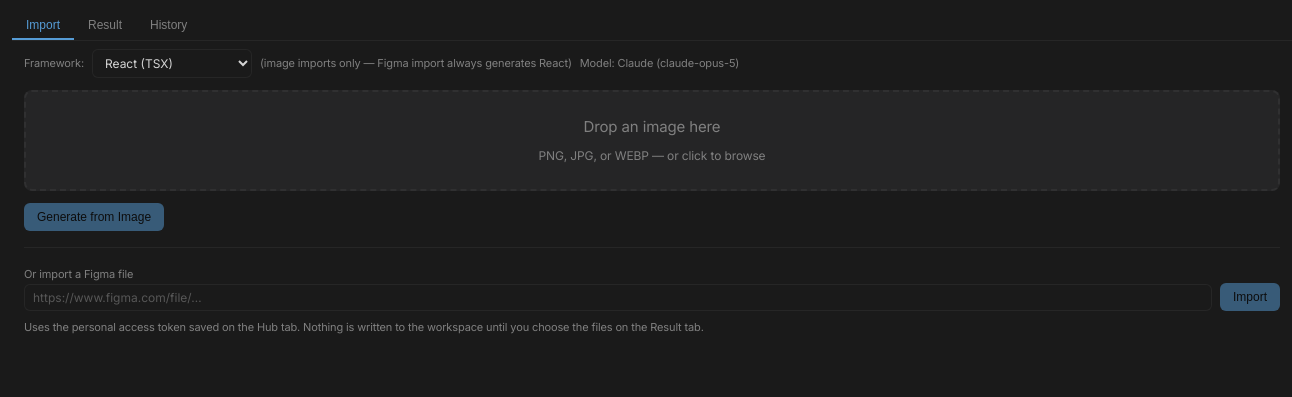
DesignImportPanel — generation › 4. a failing generator shows the error rather than an empty success
In the field named "Figma URL input": (618, 297) [24,284,1212,310], type "https://www.figma.com/file/xyz"
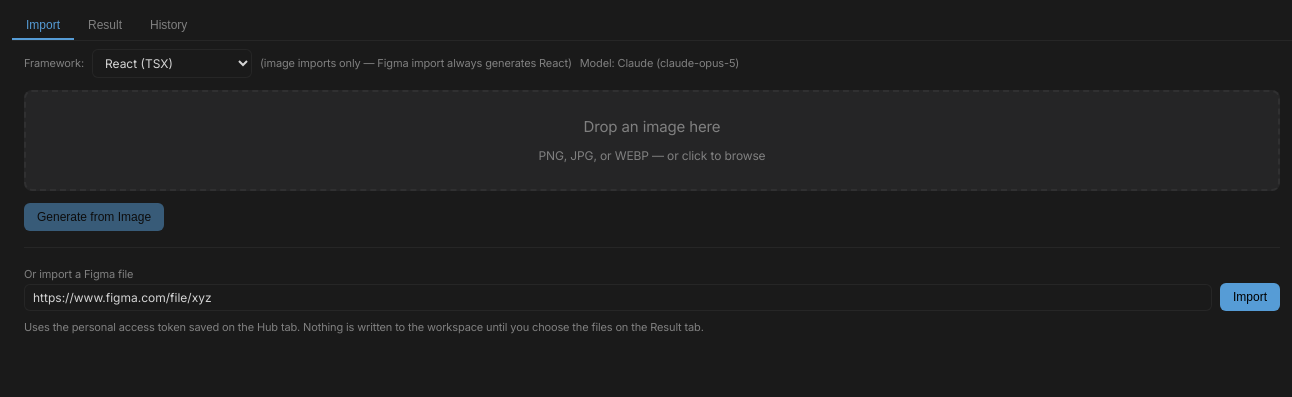
Click the button with aria-label "Import design": (1250, 297) [1220,283,1280,311]
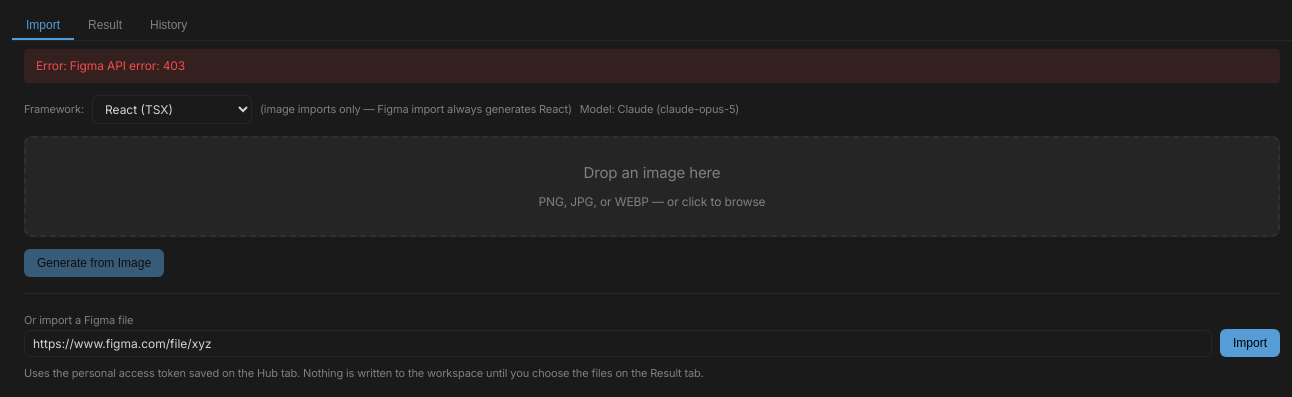
Result: the message shows "403" at [36,58,185,73]
